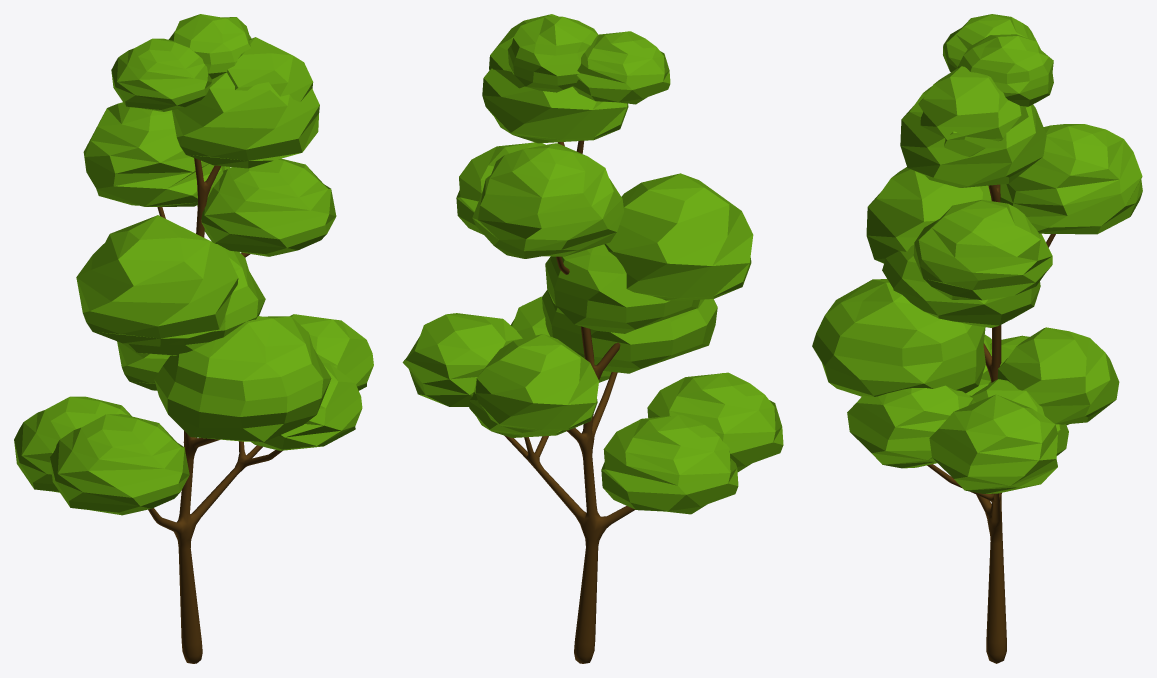
Rendered from OpenTreeMK3.fbx.
3 renders of one model, left to right at view 1: azimuth 30°, elevation 25°; view 2: azimuth 150°, elevation 25°; view 3: azimuth 270°, elevation 25°, orthographic.
Visible parts, largest first — view 1: Leaves.002, LeavesMK2.002, LeavesMK3.002, LeavesMK3.001, LeavesMK2.001, LeavesMK5, Cube, LeavesMK3, LeavesMK3.003, LeavesMK4.001, LeavesMK2, Leaves (+3 smaller); view 2: LeavesMK2.002, LeavesMK5, LeavesMK3.003, LeavesMK2.003, LeavesMK3.002, Leaves.001, LeavesMK4, Cube, LeavesMK2.001, Leaves.002, LeavesMK3, Leaves (+4 smaller); view 3: Leaves.002, LeavesMK5, LeavesMK3.001, LeavesMK4, LeavesMK2.003, LeavesMK2.001, LeavesMK4.001, LeavesMK2, LeavesMK2.002, Leaves.001, Leaves, Cube (+2 smaller).
Boxes of the visible parts, box(x1,y1,x2,y2) form: Leaves.002: box(154, 316, 331, 442); LeavesMK2.002: box(76, 215, 238, 346); LeavesMK3.002: box(50, 414, 189, 515); LeavesMK3.001: box(197, 158, 336, 256); LeavesMK2.001: box(172, 72, 319, 168); LeavesMK5: box(83, 102, 230, 206); Cube: box(148, 158, 282, 663); LeavesMK3: box(111, 38, 211, 111); LeavesMK3.003: box(14, 396, 131, 492); LeavesMK4.001: box(251, 362, 362, 450); LeavesMK2: box(226, 37, 313, 101); Leaves: box(168, 14, 251, 79); LeavesMK2.002: box(604, 173, 753, 300); LeavesMK5: box(472, 143, 623, 258); LeavesMK3.003: box(601, 414, 738, 514); LeavesMK2.003: box(475, 334, 598, 432); LeavesMK3.002: box(647, 372, 783, 471); Leaves.001: box(545, 244, 699, 333); LeavesMK4: box(402, 313, 522, 406); Cube: box(504, 140, 635, 663); LeavesMK2.001: box(482, 68, 628, 143); Leaves.002: box(542, 289, 717, 373); LeavesMK3: box(572, 31, 670, 104); Leaves: box(507, 15, 598, 92); Leaves.002: box(812, 279, 985, 396); LeavesMK5: box(1000, 124, 1142, 234); LeavesMK3.001: box(913, 199, 1052, 300); LeavesMK4: box(929, 394, 1057, 493); LeavesMK2.003: box(997, 327, 1119, 424); LeavesMK2.001: box(900, 86, 1046, 187); LeavesMK4.001: box(847, 385, 972, 468); LeavesMK2: box(918, 66, 1028, 156); LeavesMK2.002: box(866, 167, 991, 263); Leaves.001: box(882, 244, 1040, 327); Leaves: box(958, 34, 1053, 107); Cube: box(927, 184, 1055, 663).
Bounding box in the file's own units: 1653 × 3048 × 1435.
